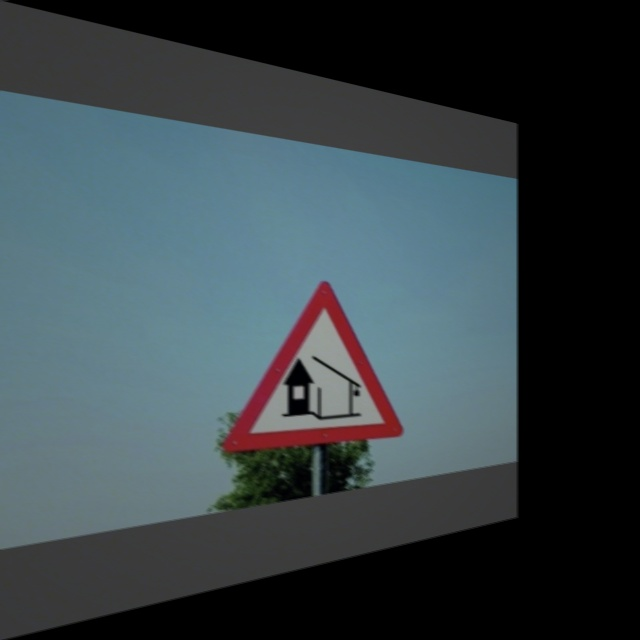Barrier_Ahead: (211, 267, 415, 465)
